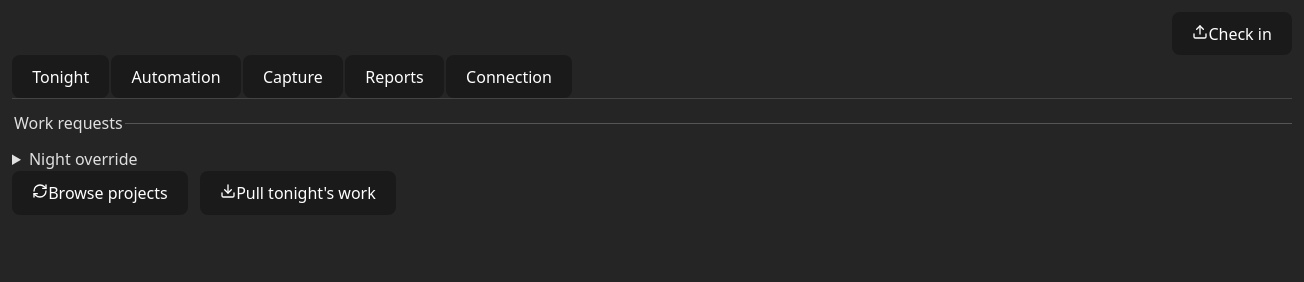
Test: Collaboration work transfer › does not automatically retry a failed report delivery
Click the button "Check in" at (1232, 34), box [1172,12,1292,55]
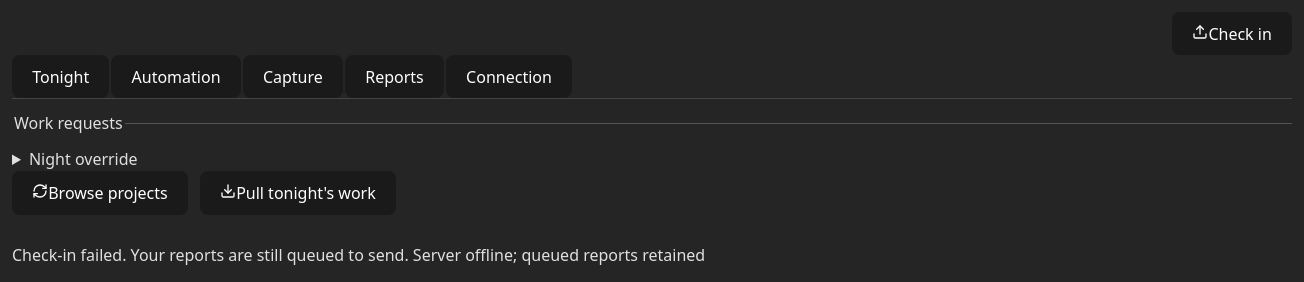
Expected: the message shows "queued reports retained", [413,244,705,266]
